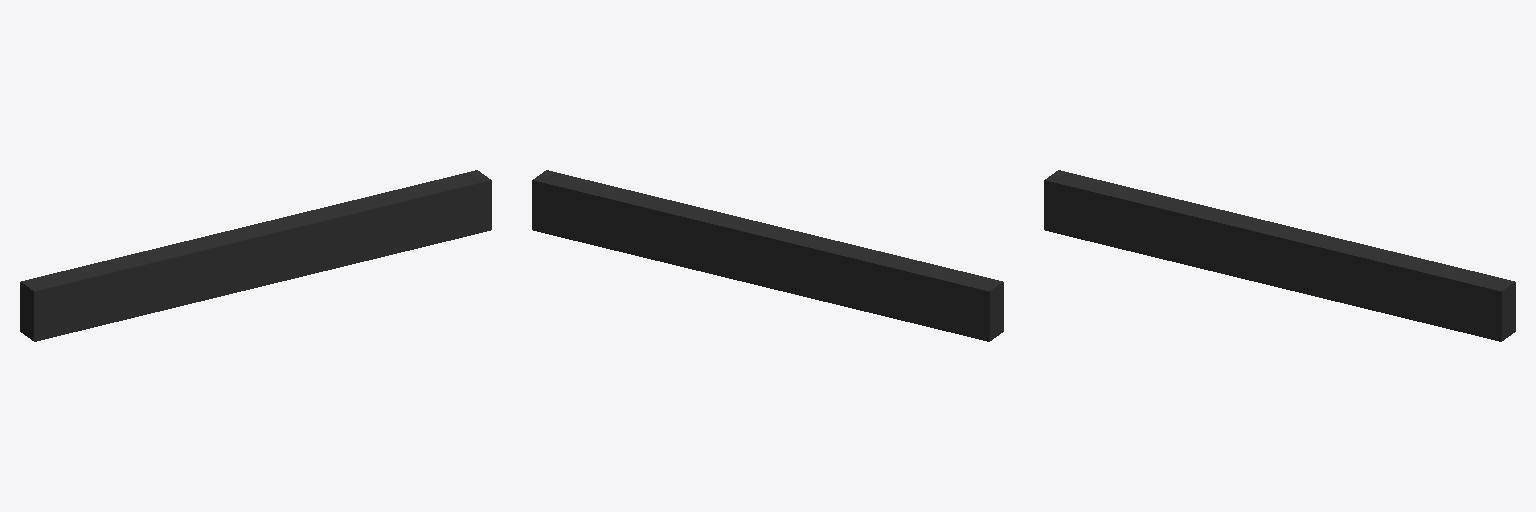
The robot description file, URDF, robot "wall":
<robot name="wall">
  <link name="baseLink">
   
    <inertial>
      <origin rpy="0 0 0" xyz="0 0 0" />
       <mass value="1000.0" />
       <inertia ixx="0" ixy="0" ixz="0" iyy="0" iyz="0" izz="0" />
    </inertial>
    <visual>
      <origin rpy="0 0 0" xyz="0 0 0" />
      <geometry>
			  <box size="19 1 2" />
      </geometry>
       <material name="grey">
        <color rgba="0.24 0.24 0.24 1" />
      </material>
    </visual>
    <collision>
      <origin rpy="0 0 0" xyz="0 0 0" />
      <geometry>
	 	      <box size="19 1 2" />
      </geometry>
    </collision>
  </link>
</robot>

--- What the picture shows (computed from the rendered views, not written in the file) ---
Views: 3 orthographic renders of the robot side by side, from view 1: azimuth 30°, elevation 25°; view 2: azimuth 150°, elevation 25°; view 3: azimuth 330°, elevation 25°.
Model wall with 1 links and 0 joints (none), rooted at baseLink, posed every joint at zero.
Links seen in each view (by area): view 1: baseLink; view 2: baseLink; view 3: baseLink.
Boxes of the visible links, x1=… form: baseLink: x1=20, y1=170, x2=491, y2=341; baseLink: x1=532, y1=170, x2=1003, y2=341; baseLink: x1=1044, y1=170, x2=1515, y2=341.
Bounding box of the posed robot: 19 × 1 × 2 m (x, y, z).
Geometry: primitives only (box / cylinder / sphere), no mesh files.
